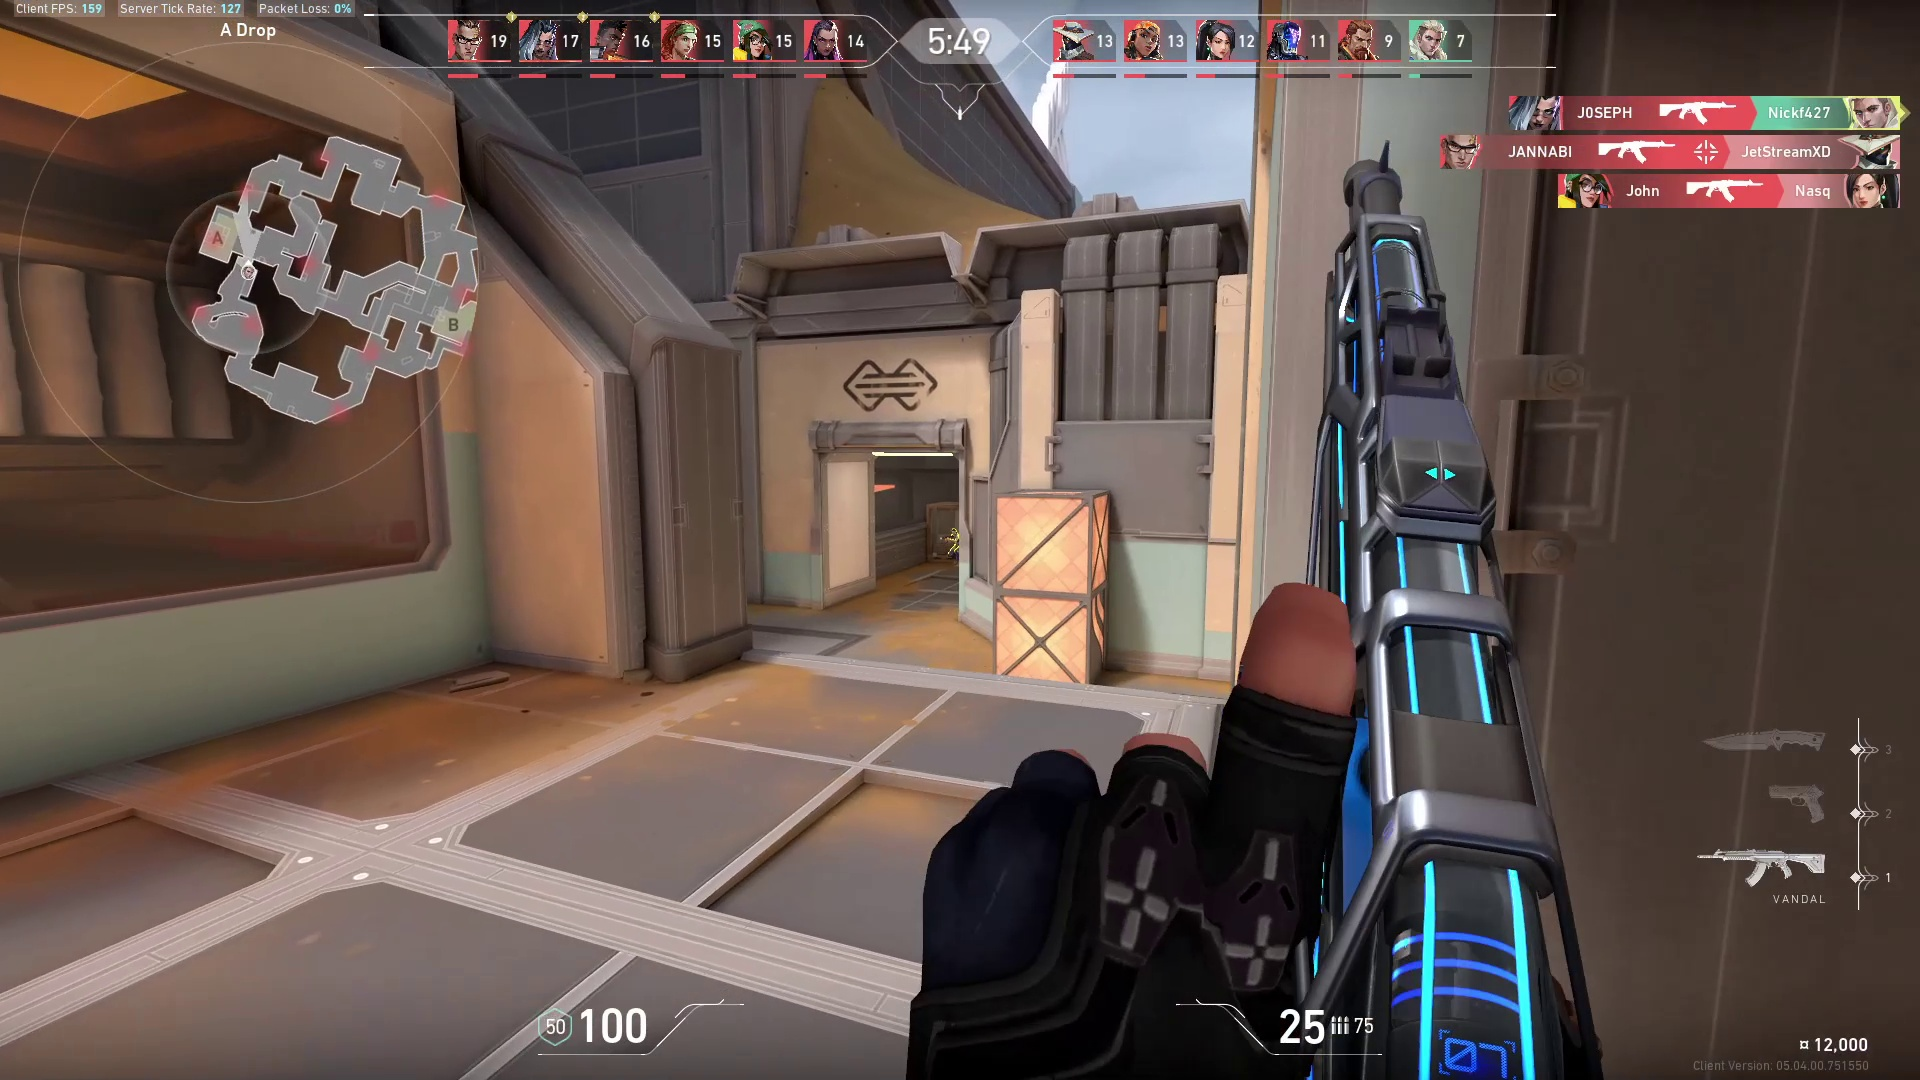enemy_body: (947, 535, 960, 564)
enemy_head: (949, 526, 960, 537)
